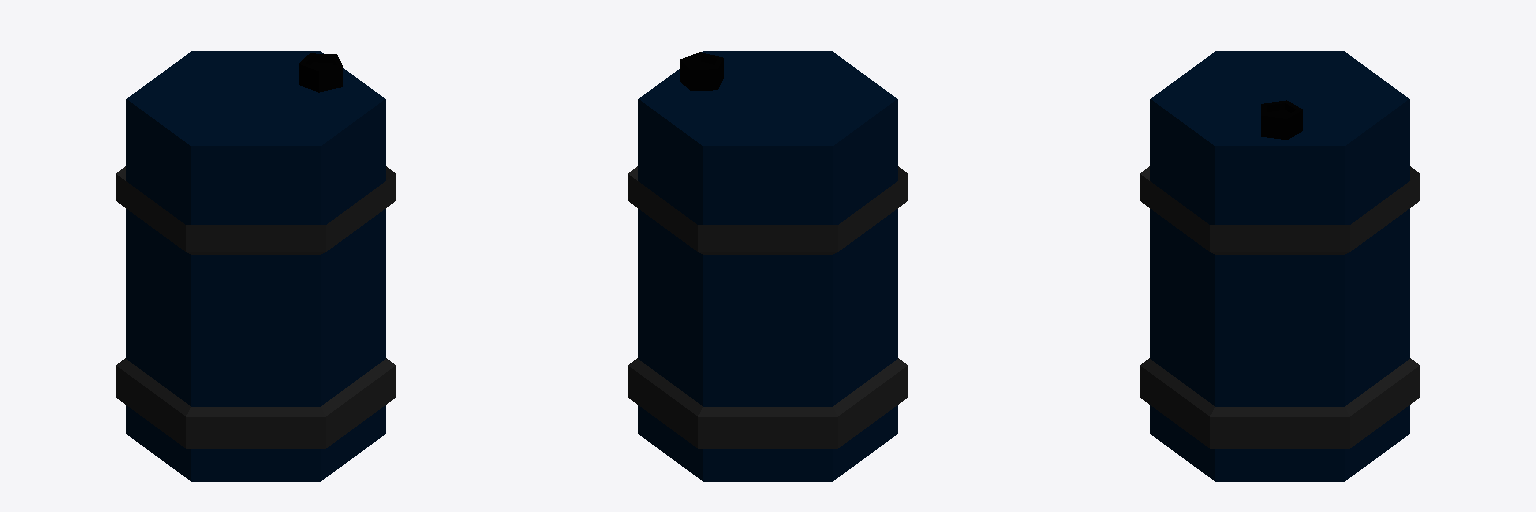
The model's file is Barrel.obj.
3 views of the same model, side by side, from view 1: azimuth 30°, elevation 25°; view 2: azimuth 150°, elevation 25°; view 3: azimuth 270°, elevation 25° (orthographic).
Visible parts, largest first — view 1: Barrel_Cylinder.012; view 2: Barrel_Cylinder.012; view 3: Barrel_Cylinder.012.
Part boxes in pixels (left/top/right/bottom): Barrel_Cylinder.012: left=116, top=51, right=395, bottom=481; Barrel_Cylinder.012: left=628, top=51, right=907, bottom=481; Barrel_Cylinder.012: left=1140, top=51, right=1419, bottom=481.
Size of the model in its own units: 0.9613 by 1.56 by 1.11.